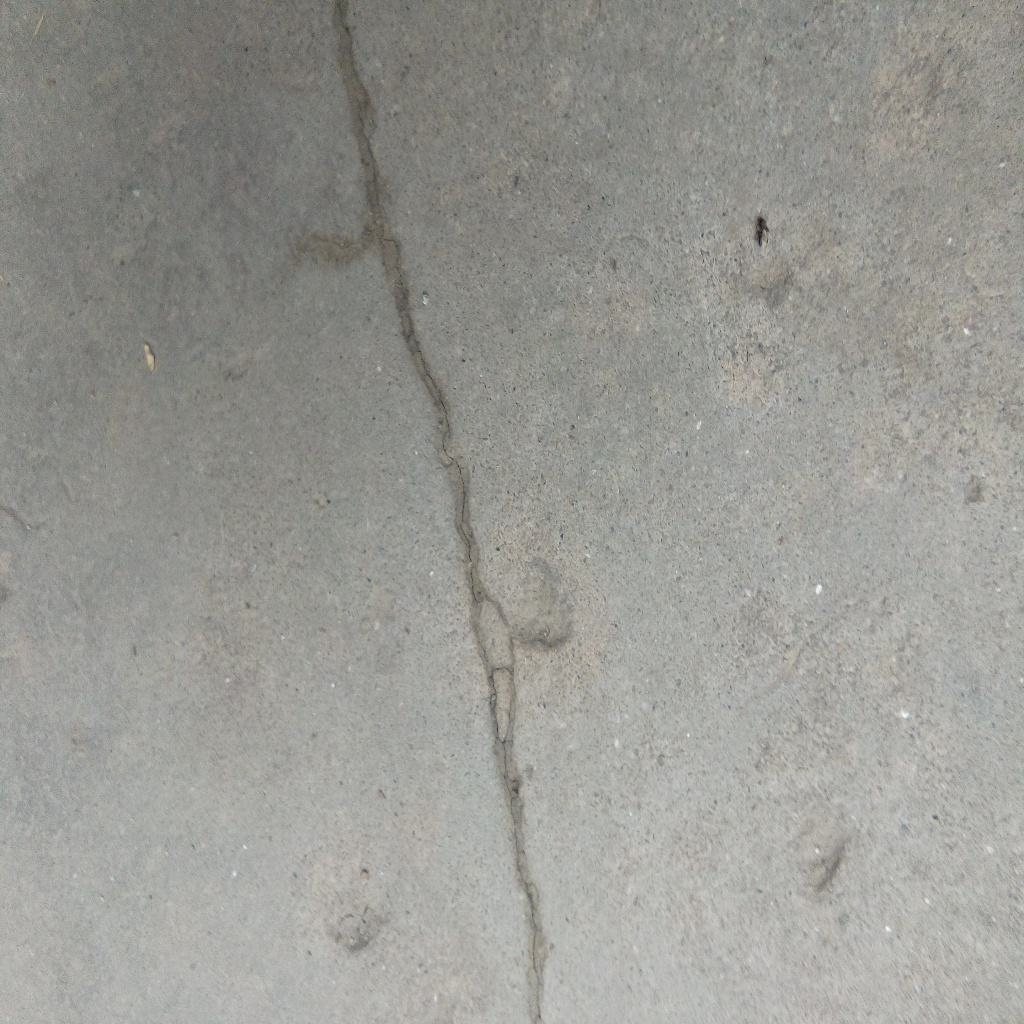Crack: (334, 1, 549, 1024)
